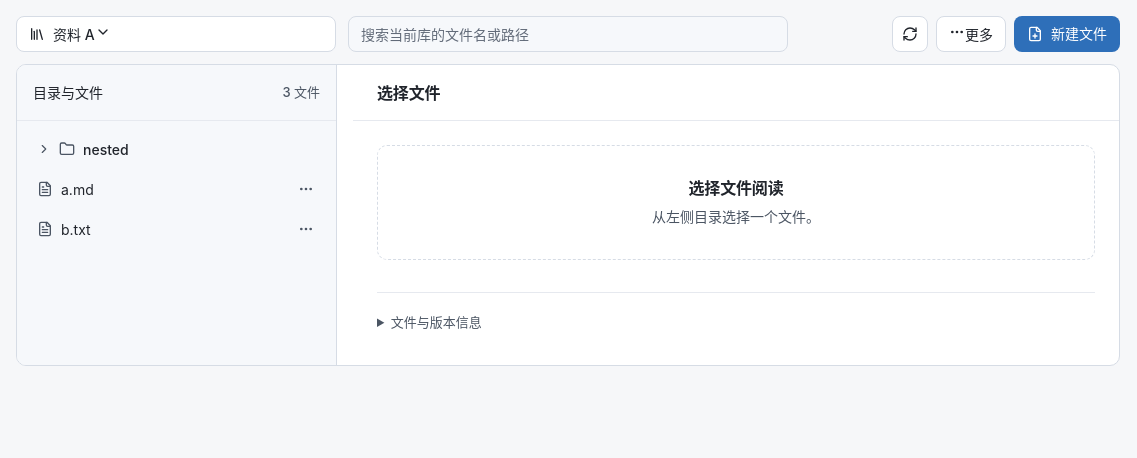
Test: KnowledgeConsole reading and request ownership › keeps current reading when path search hides its navigation entry
The image size is (1137, 458).
Click the button "a.md" at (154, 189), box [25,169,284,209]
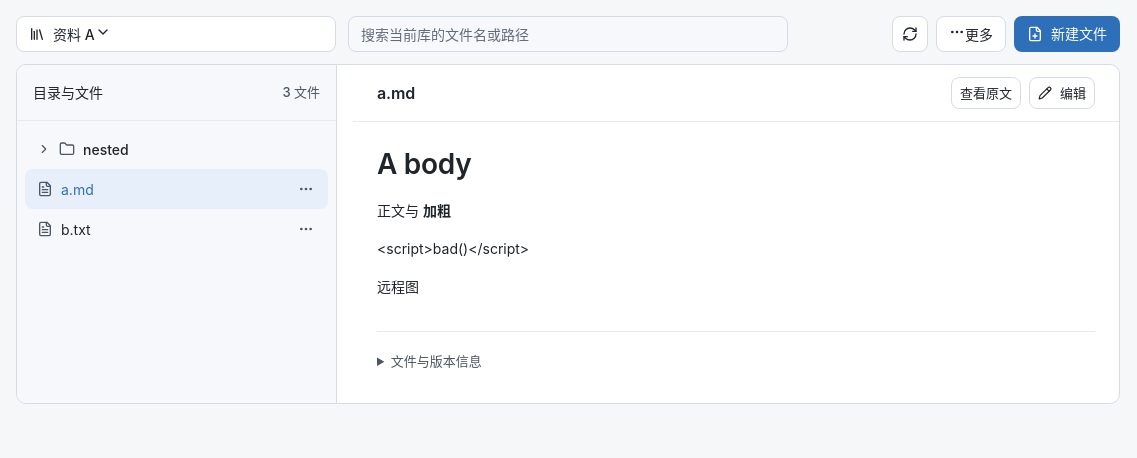
Type "deep/c" into the field named "搜索当前库的文件名或路径" at (568, 34), box [348,16,788,52]
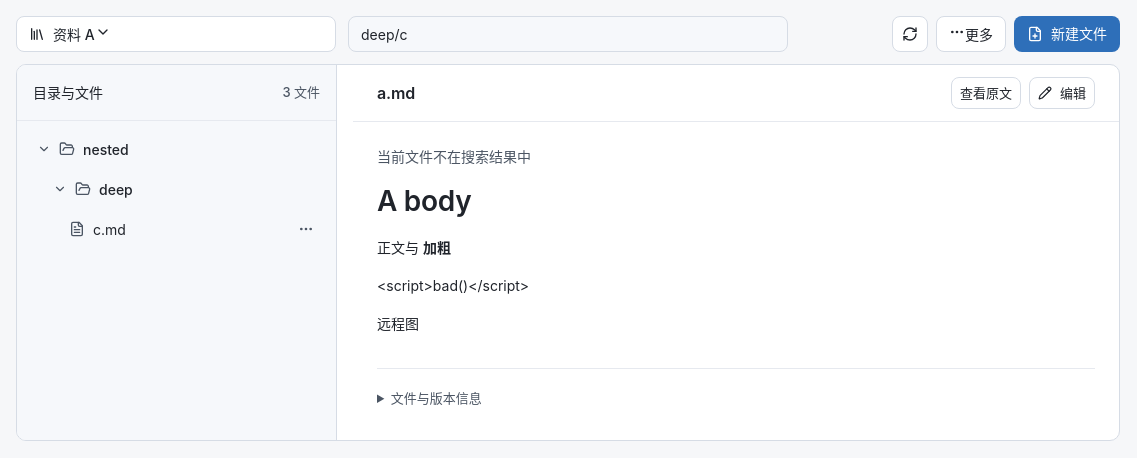
Expected: the heading "A body" is shown, [377,184,472,218]
Expected: the text "当前文件不在搜索结果中" is shown, [377,148,531,165]
Expected: the elements with class "knowledge-navigation-item" read "nested", "deep", "c.md", in this order, [25,129,324,169]; [25,169,324,209]; [25,209,284,249]
